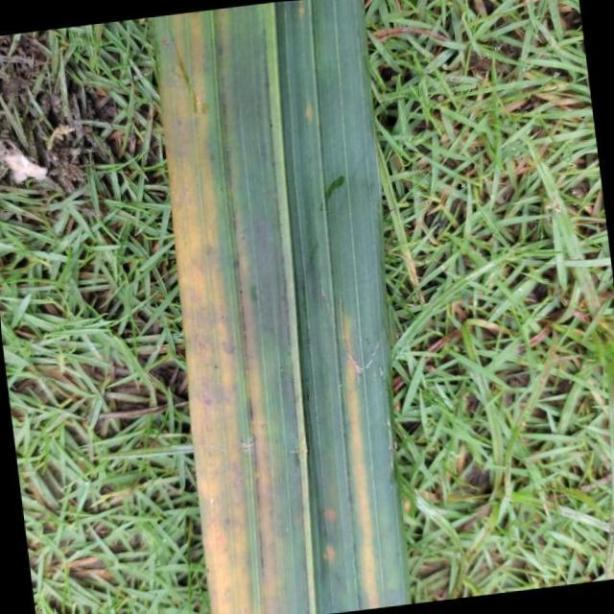Megnesium: (155, 0, 413, 614)
